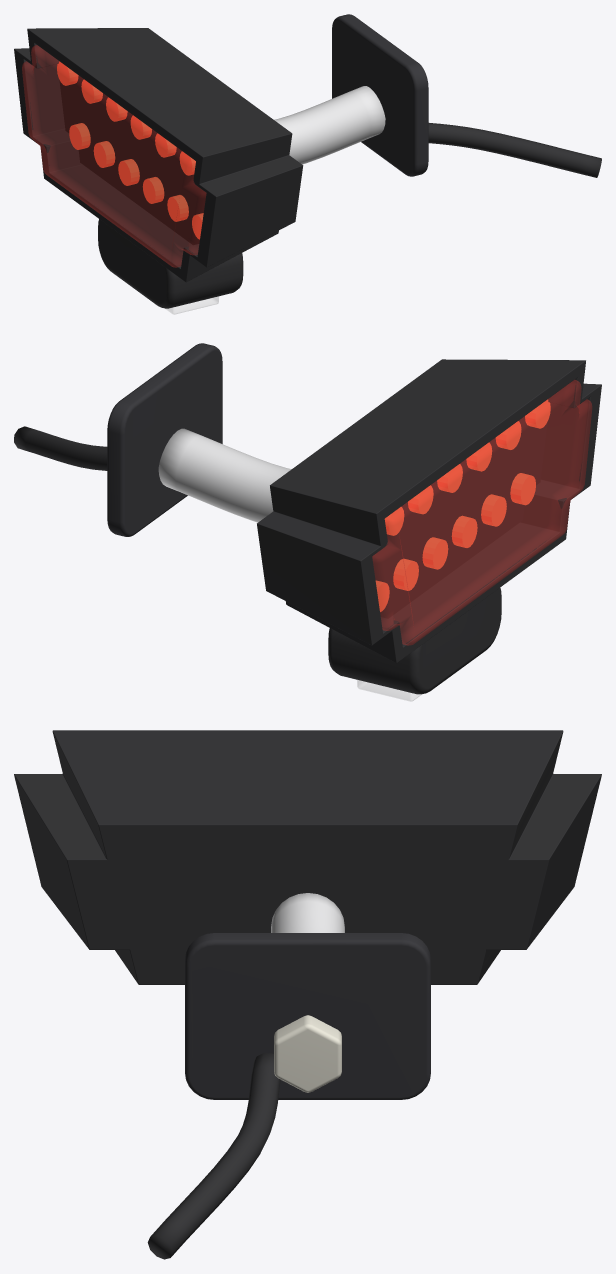
File: tail_light.glb
3 renders of one model, top to bottom at view 1: azimuth 30°, elevation 25°; view 2: azimuth 150°, elevation 25°; view 3: azimuth 270°, elevation 25°, orthographic. The views are drawn at different scales.
Parts seen in each view (by area): view 1: tail_light__housing, tail_light__lens, tail_light__leds, tail_light__bracket, tail_light__plate_light, tail_light__stalk, tail_light__wire; view 2: tail_light__housing, tail_light__lens, tail_light__leds, tail_light__bracket, tail_light__plate_light, tail_light__stalk, tail_light__wire, tail_light__plate_light_lens; view 3: tail_light__housing, tail_light__bracket, tail_light__wire, tail_light__stalk.
Part boxes in pixels (x1,y1,x2,y2): tail_light__housing: (14, 28, 303, 282); tail_light__lens: (22, 45, 206, 267); tail_light__leds: (57, 61, 206, 244); tail_light__bracket: (332, 14, 428, 176); tail_light__plate_light: (98, 219, 243, 308); tail_light__stalk: (274, 86, 385, 164); tail_light__wire: (428, 123, 601, 177); tail_light__housing: (257, 359, 601, 663); tail_light__lens: (372, 380, 591, 645); tail_light__leds: (372, 399, 550, 618); tail_light__bracket: (107, 343, 222, 536); tail_light__plate_light: (328, 588, 501, 694); tail_light__stalk: (158, 428, 291, 522); tail_light__wire: (14, 426, 107, 470); tail_light__plate_light_lens: (357, 680, 421, 701); tail_light__housing: (14, 730, 601, 984); tail_light__bracket: (185, 933, 430, 1099); tail_light__wire: (147, 1053, 280, 1259); tail_light__stalk: (271, 893, 344, 932).
Bounding box in the file's own units: 15.24 × 6.82 × 11.95.
